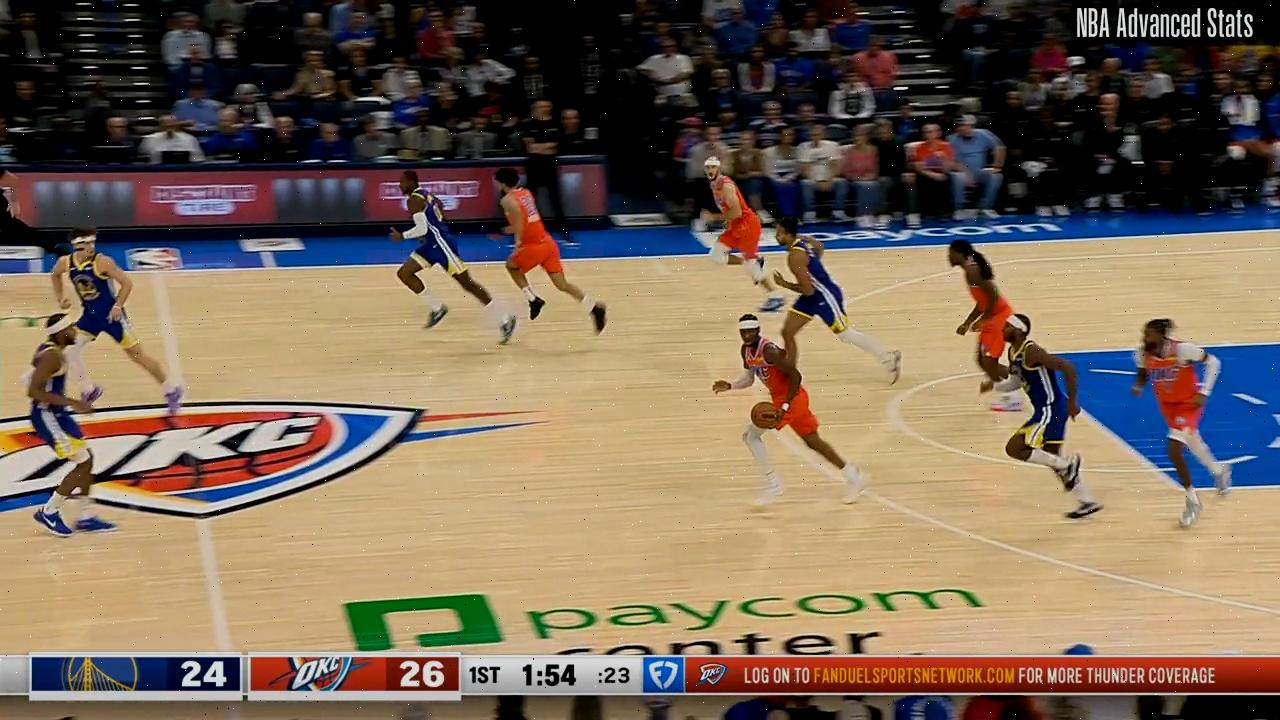basketball: (751, 399, 781, 432)
